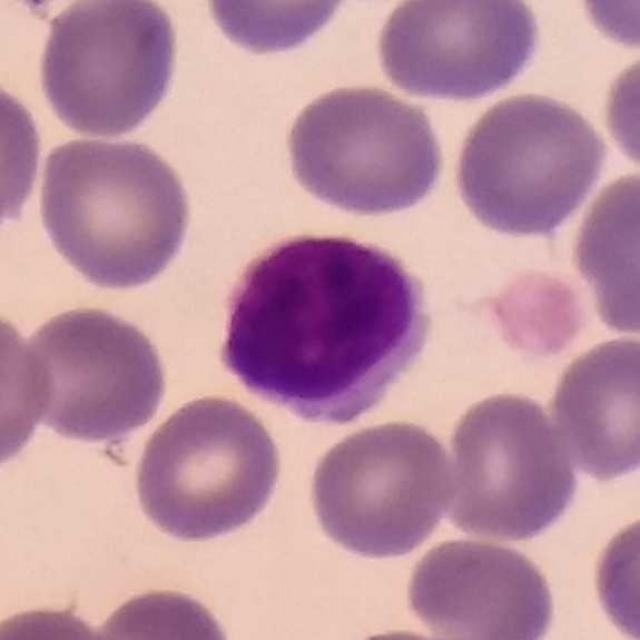Lymphocyte: (213, 227, 446, 430)
RBC: (33, 129, 196, 294), (450, 88, 611, 240), (129, 391, 286, 545), (281, 79, 448, 220), (12, 300, 173, 446), (305, 416, 460, 562), (439, 386, 582, 544), (33, 1, 185, 140), (370, 0, 546, 104), (402, 532, 562, 640), (545, 332, 640, 482), (566, 167, 640, 340), (474, 263, 592, 363), (0, 302, 59, 478), (199, 0, 356, 59), (82, 582, 237, 640), (0, 72, 48, 243), (587, 507, 640, 640), (597, 43, 640, 180), (0, 599, 125, 640), (0, 0, 161, 31), (572, 0, 640, 53), (326, 624, 495, 640)
